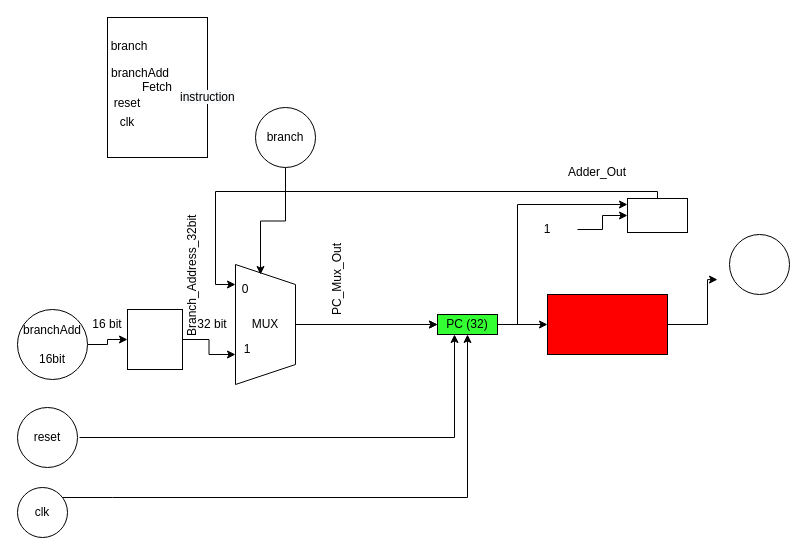
Some shapes in this 807 by 555 pixel diagram are drawn without their labels. Here are the shapes that lost their labels. From the top down, the centre of each, then its label:
At pixel 657 215: "ADD".
At pixel 759 264: "instruction 16 bit".
At pixel 154 339: "sign Extend".
At pixel 607 324: "Code Memory".
